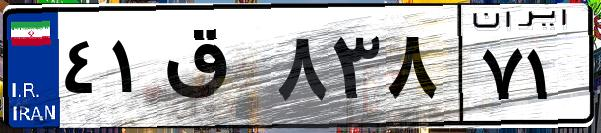1: (525, 38, 570, 115), (110, 28, 158, 98)
3: (330, 28, 385, 110)
4: (57, 26, 110, 100)
7: (475, 38, 525, 113)
8: (270, 28, 330, 110), (385, 28, 445, 110)
ق: (158, 20, 270, 120)
